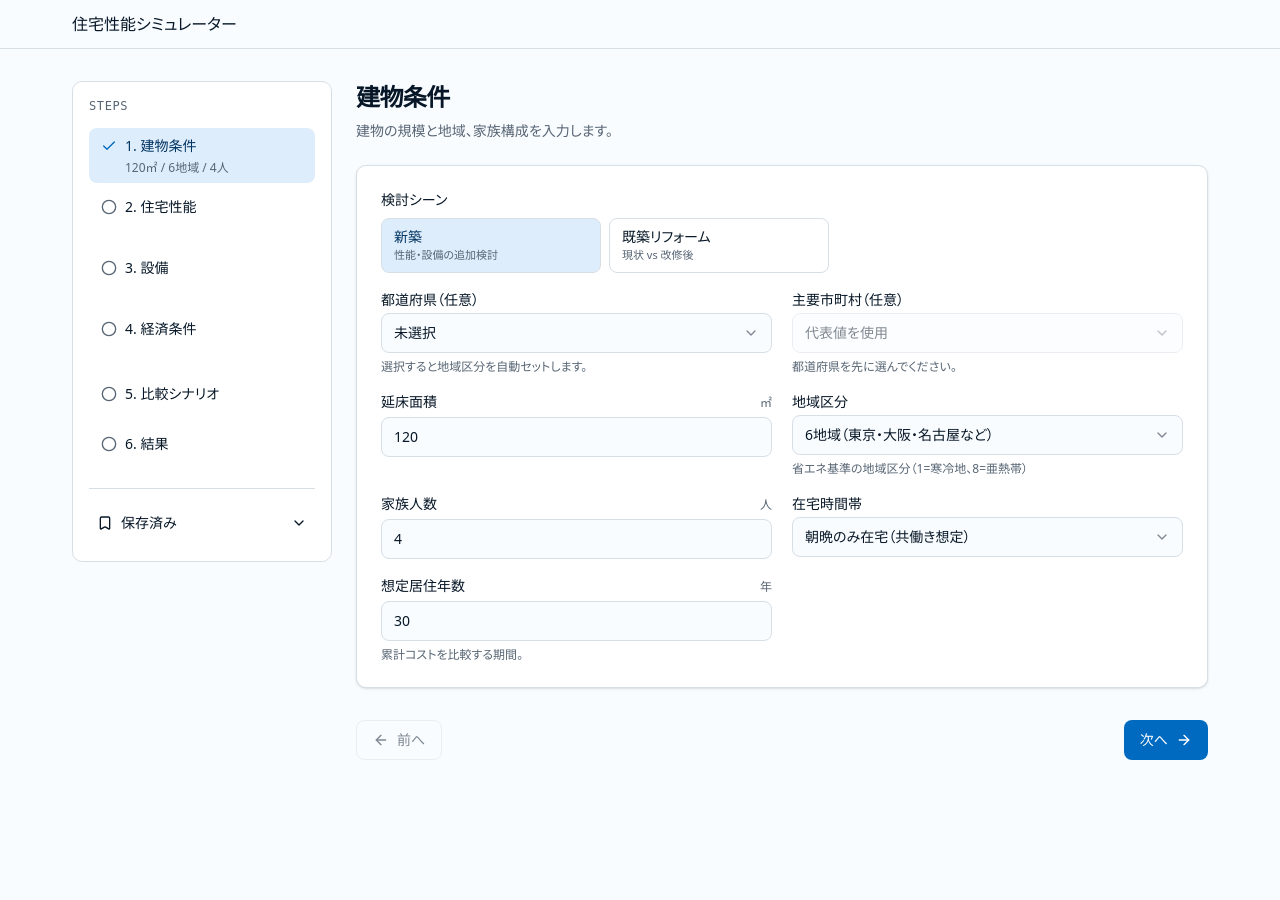
Test: SimulatorApp next / back › 次へ and 前へ move between steps and mark them visited
This screenshot has width=1280, height=900.
Expected: the heading reads "建物条件", [356, 80, 450, 113]
Click the button "次へ" at (1166, 740), box [1124, 720, 1208, 760]
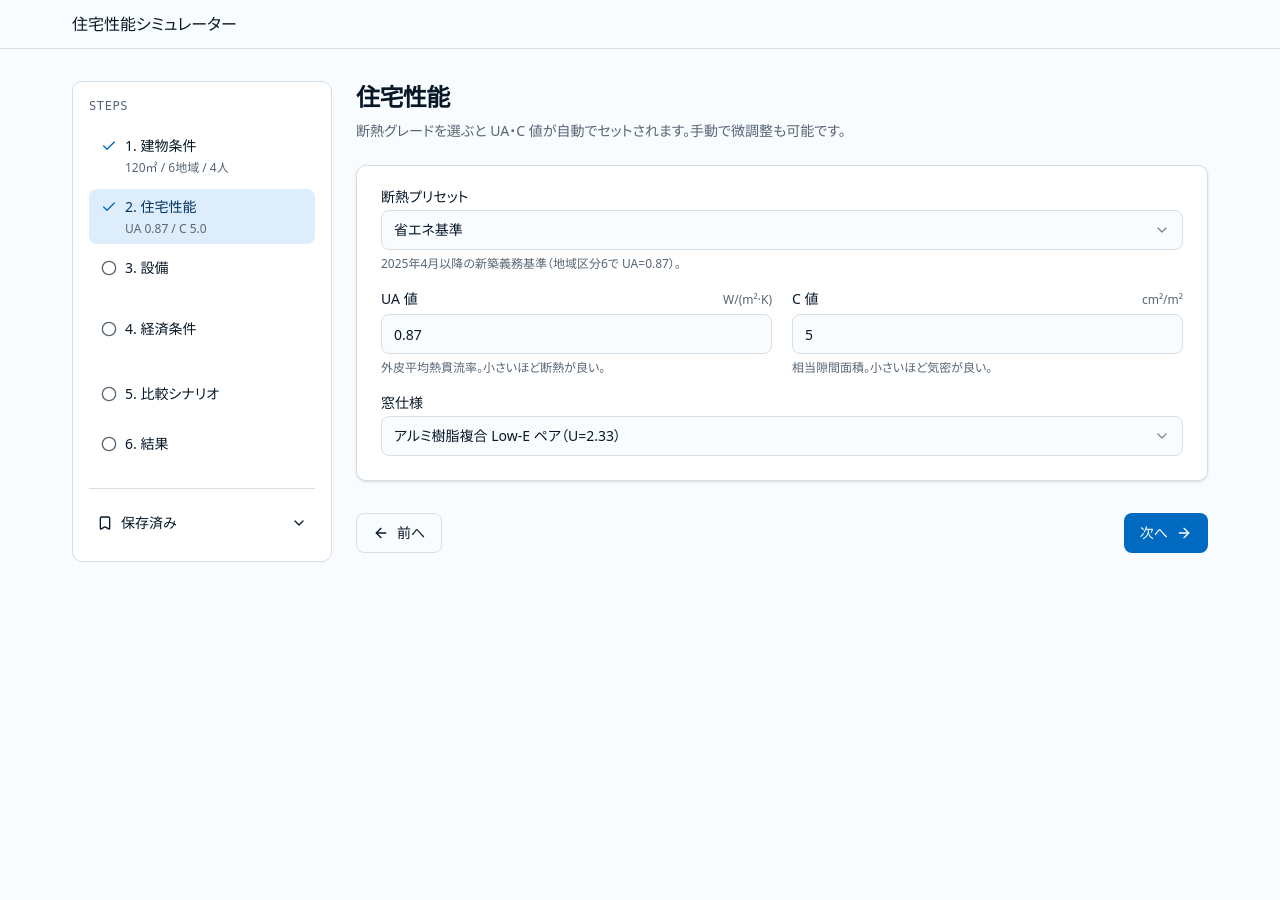
Expected: the heading "住宅性能" is shown, [356, 80, 450, 113]
Click the button "前へ" at (399, 533), box [356, 513, 442, 553]
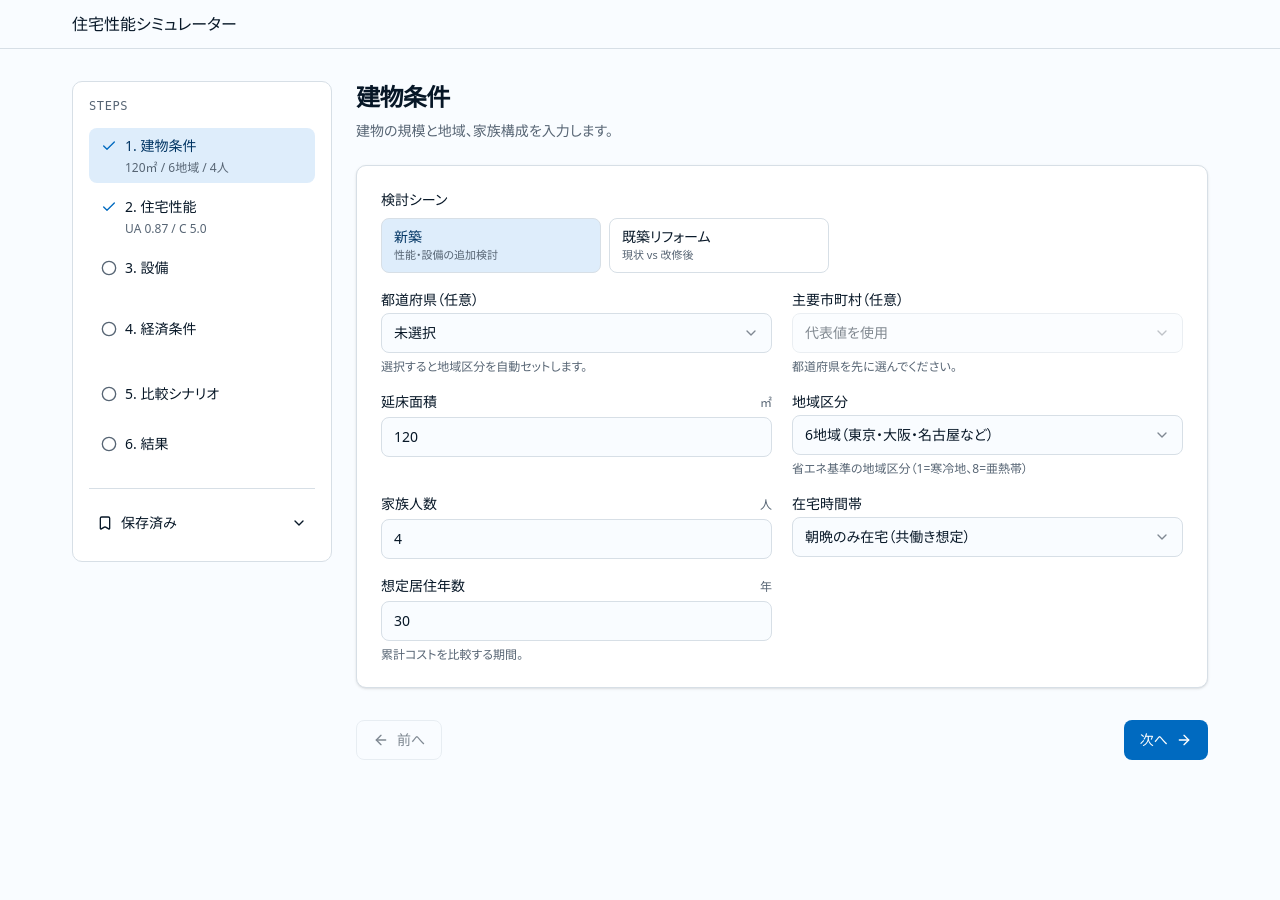
Expected: the button "2. 住宅性能 UA 0.87 / C 5.0" is shown, [89, 189, 315, 244]
Expected: the heading reads "建物条件", [356, 80, 450, 113]
